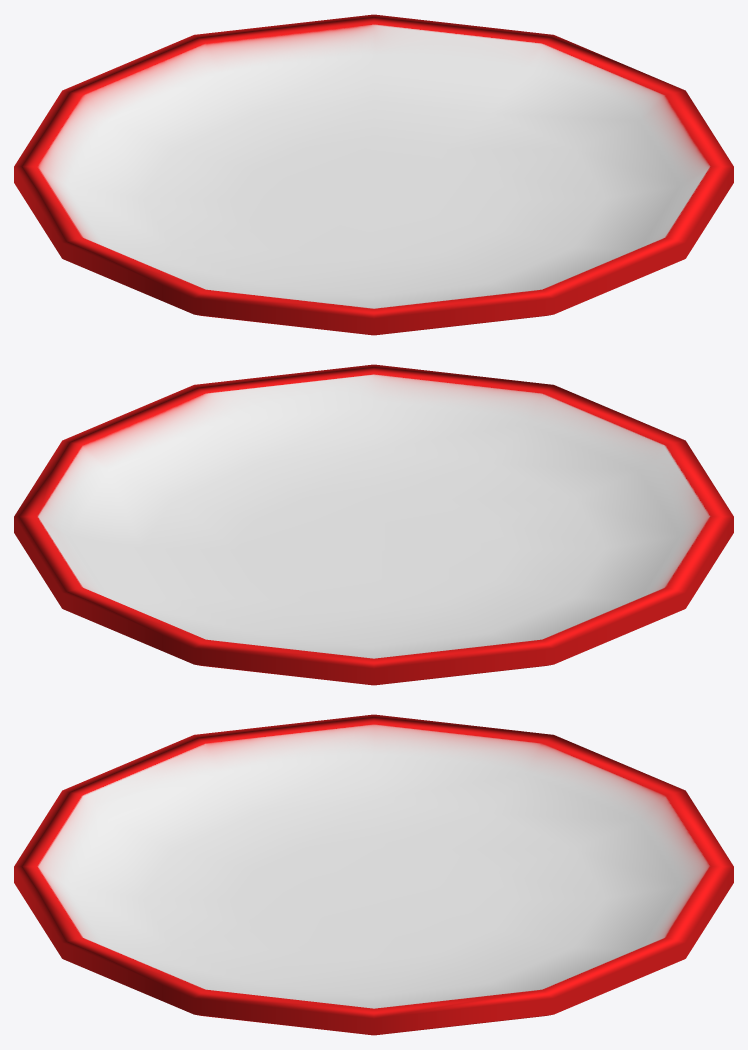
File: PR_plateRed_01.fbx
3 views of the same model, one above another, from view 1: azimuth 30°, elevation 25°; view 2: azimuth 150°, elevation 25°; view 3: azimuth 270°, elevation 25° (orthographic).
Visible parts, largest first — view 1: PR_plateRed_01; view 2: PR_plateRed_01; view 3: PR_plateRed_01.
Part boxes in pixels (x1,y1,x2,y2): PR_plateRed_01: [14, 14, 733, 335]; PR_plateRed_01: [14, 364, 733, 685]; PR_plateRed_01: [14, 714, 733, 1035].
Bounding box in the file's own units: 1220 × 125 × 1220.
Materials: 1 (1 with a texture image).
